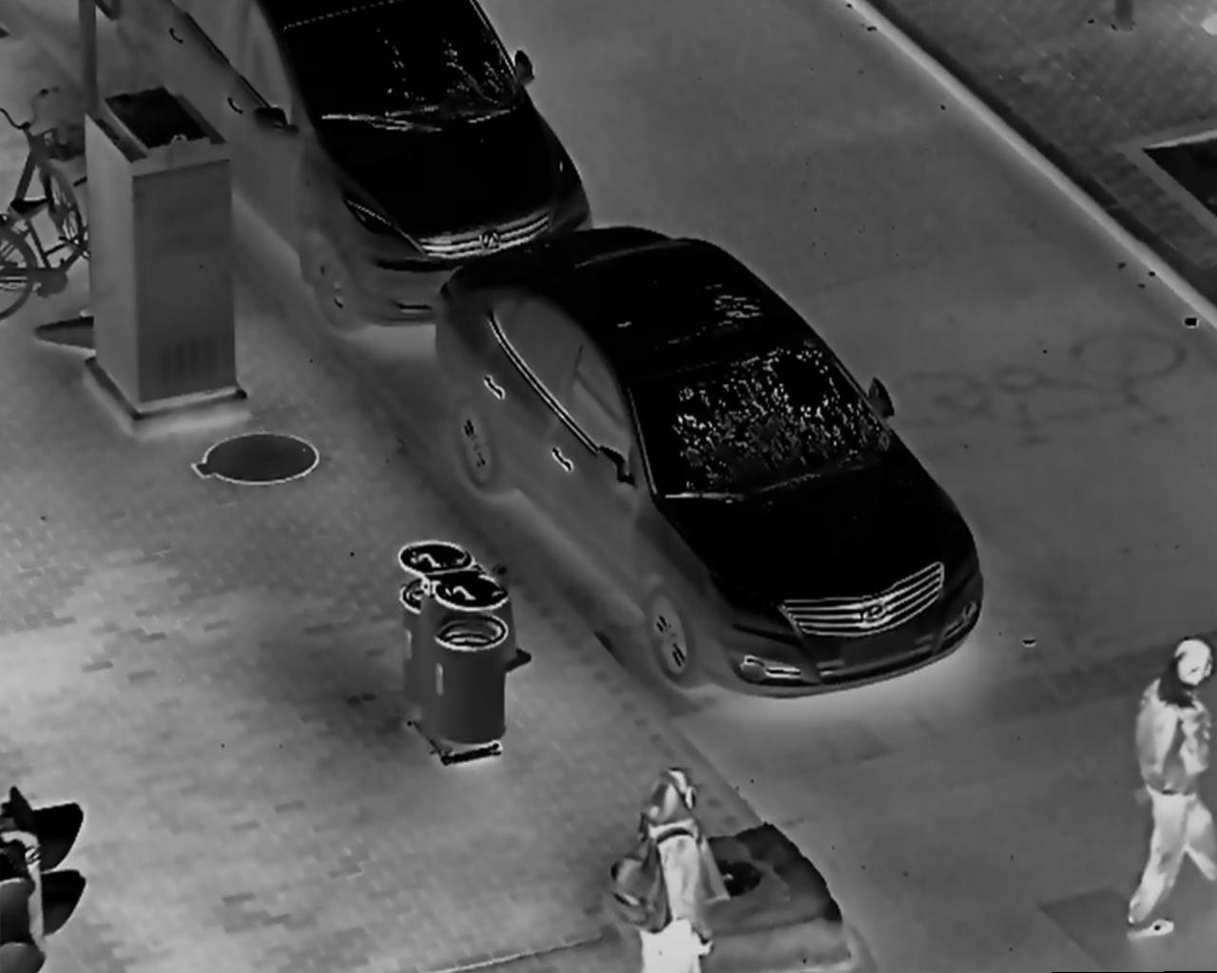person: (1117, 631, 1217, 943), (604, 758, 731, 973)
